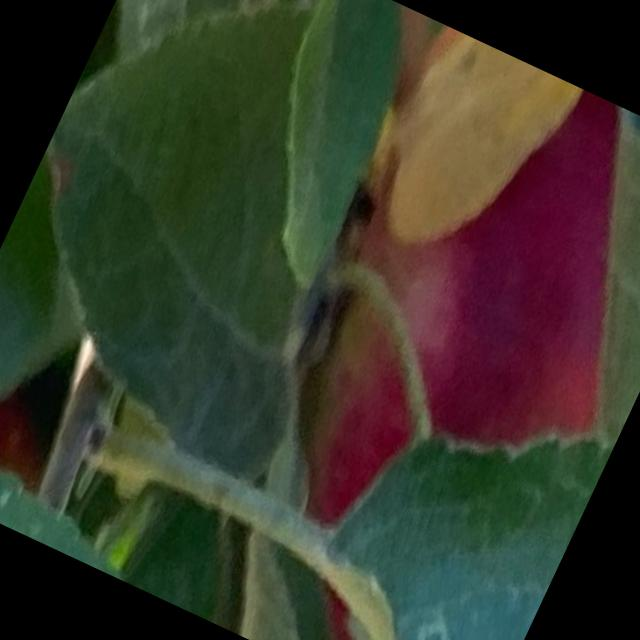Apples: (183, 29, 639, 639)
